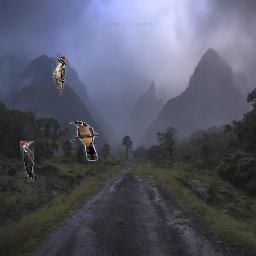Cuckoo: (69, 121, 98, 161)
Woodpecker: (20, 141, 34, 181), (52, 56, 66, 96)
